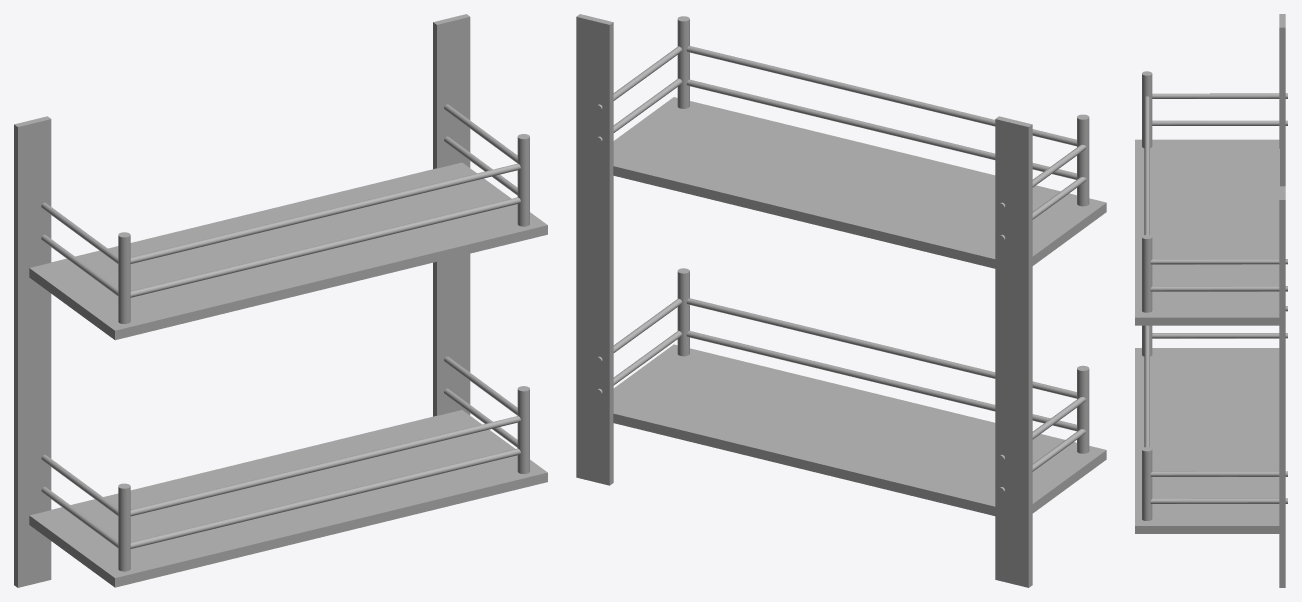
Rendered from rak sabun.fbx.
The picture shows the model from 3 angles, left to right: view 1: azimuth 30°, elevation 25°; view 2: azimuth 150°, elevation 25°; view 3: azimuth 270°, elevation 25°; orthographic projection. The views are drawn at different scales.
Parts seen in each view (by area): view 1: Cube.001, Cube, Cube.002, Cube.003, Cylinder.006, Cylinder.005, Cylinder.004, Cylinder.007, Cylinder.003, Cylinder.002, Cylinder.001, Cylinder; view 2: Cube.001, Cube, Cube.002, Cube.003, Cylinder.005, Cylinder.007, Cylinder.004, Cylinder.006, Cylinder.002, Cylinder.003, Cylinder, Cylinder.001; view 3: Cube.001, Cube, Cube.003, Cube.002, Cylinder.002, Cylinder.007, Cylinder.011, Cylinder.010, Cylinder.013, Cylinder.012, Cylinder, Cylinder.015 (+4 smaller).
Part boxes in pixels (bbox=[...]): Cube.001: bbox=[29, 162, 547, 340]; Cube: bbox=[29, 410, 547, 587]; Cube.002: bbox=[14, 116, 51, 587]; Cube.003: bbox=[433, 14, 470, 416]; Cylinder.006: bbox=[130, 197, 520, 297]; Cylinder.005: bbox=[130, 416, 520, 516]; Cylinder.004: bbox=[130, 448, 520, 548]; Cylinder.007: bbox=[130, 163, 520, 263]; Cylinder.003: bbox=[118, 232, 130, 323]; Cylinder.002: bbox=[517, 134, 529, 226]; Cylinder.001: bbox=[118, 483, 130, 571]; Cylinder: bbox=[517, 386, 529, 473]; Cube.001: bbox=[613, 97, 1106, 268]; Cube: bbox=[613, 344, 1106, 515]; Cube.002: bbox=[995, 116, 1032, 587]; Cube.003: bbox=[576, 14, 613, 485]; Cylinder.005: bbox=[686, 298, 1076, 398]; Cylinder.007: bbox=[686, 46, 1076, 146]; Cylinder.004: bbox=[686, 331, 1076, 431]; Cylinder.006: bbox=[686, 79, 1076, 179]; Cylinder.002: bbox=[677, 16, 689, 108]; Cylinder.003: bbox=[1077, 114, 1089, 206]; Cylinder: bbox=[677, 268, 689, 356]; Cylinder.001: bbox=[1077, 365, 1089, 453]; Cube.001: bbox=[1135, 139, 1279, 325]; Cube: bbox=[1135, 348, 1279, 533]; Cube.003: bbox=[1279, 186, 1285, 587]; Cube.002: bbox=[1279, 14, 1285, 186]; Cylinder.002: bbox=[1142, 234, 1152, 312]; Cylinder.007: bbox=[1144, 96, 1149, 234]; Cylinder.011: bbox=[1150, 471, 1287, 476]; Cylinder.010: bbox=[1150, 498, 1287, 503]; Cylinder.013: bbox=[1150, 286, 1287, 291]; Cylinder.012: bbox=[1150, 259, 1287, 264]; Cylinder: bbox=[1142, 447, 1152, 520]; Cylinder.015: bbox=[1152, 93, 1287, 98].
Size of the model in its own units: 693 by 674 by 241.
Materials: 20 (20 with a texture image).
